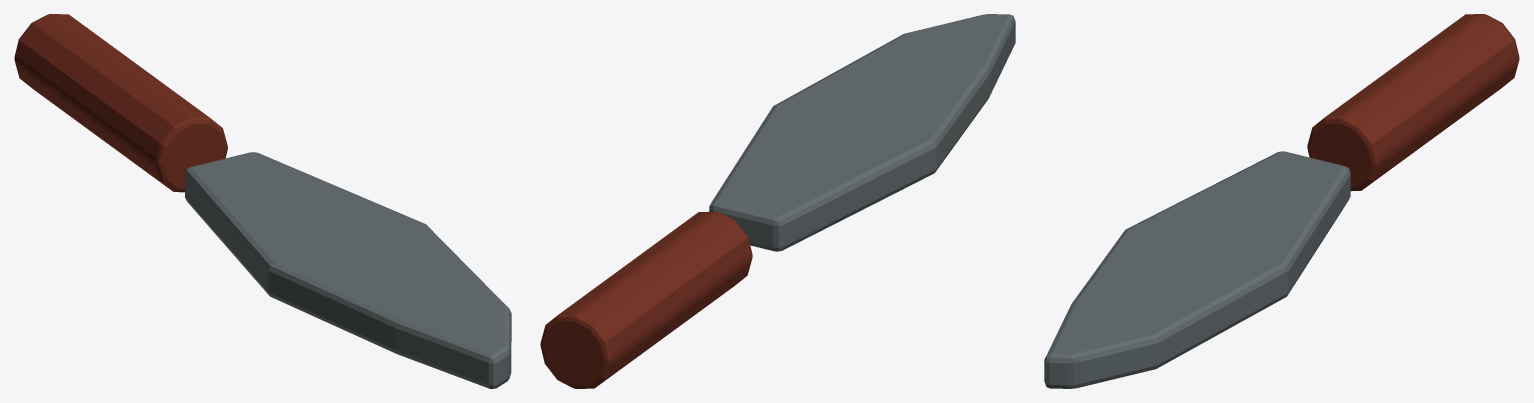
Rendered from kopis_heavy_LOD1.glb.
3 views of the same model, side by side, from view 1: azimuth 30°, elevation 25°; view 2: azimuth 150°, elevation 25°; view 3: azimuth 330°, elevation 25° (orthographic).
Parts seen in each view (by area): view 1: LOD1_KopisBlade, LOD1_Grip; view 2: LOD1_KopisBlade, LOD1_Grip; view 3: LOD1_KopisBlade, LOD1_Grip.
Boxes of the visible parts, box(x1,y1,x2,y2) form: LOD1_KopisBlade: box(185, 152, 511, 388); LOD1_Grip: box(14, 14, 227, 192); LOD1_KopisBlade: box(709, 14, 1015, 251); LOD1_Grip: box(540, 211, 752, 388); LOD1_KopisBlade: box(1044, 151, 1350, 388); LOD1_Grip: box(1307, 14, 1519, 191).
Bounding box in the file's own units: 0.27 × 0.1176 × 1.28.
